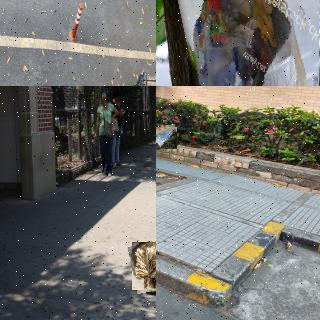Garbage: (186, 0, 320, 86), (130, 239, 156, 292), (156, 125, 178, 150)
